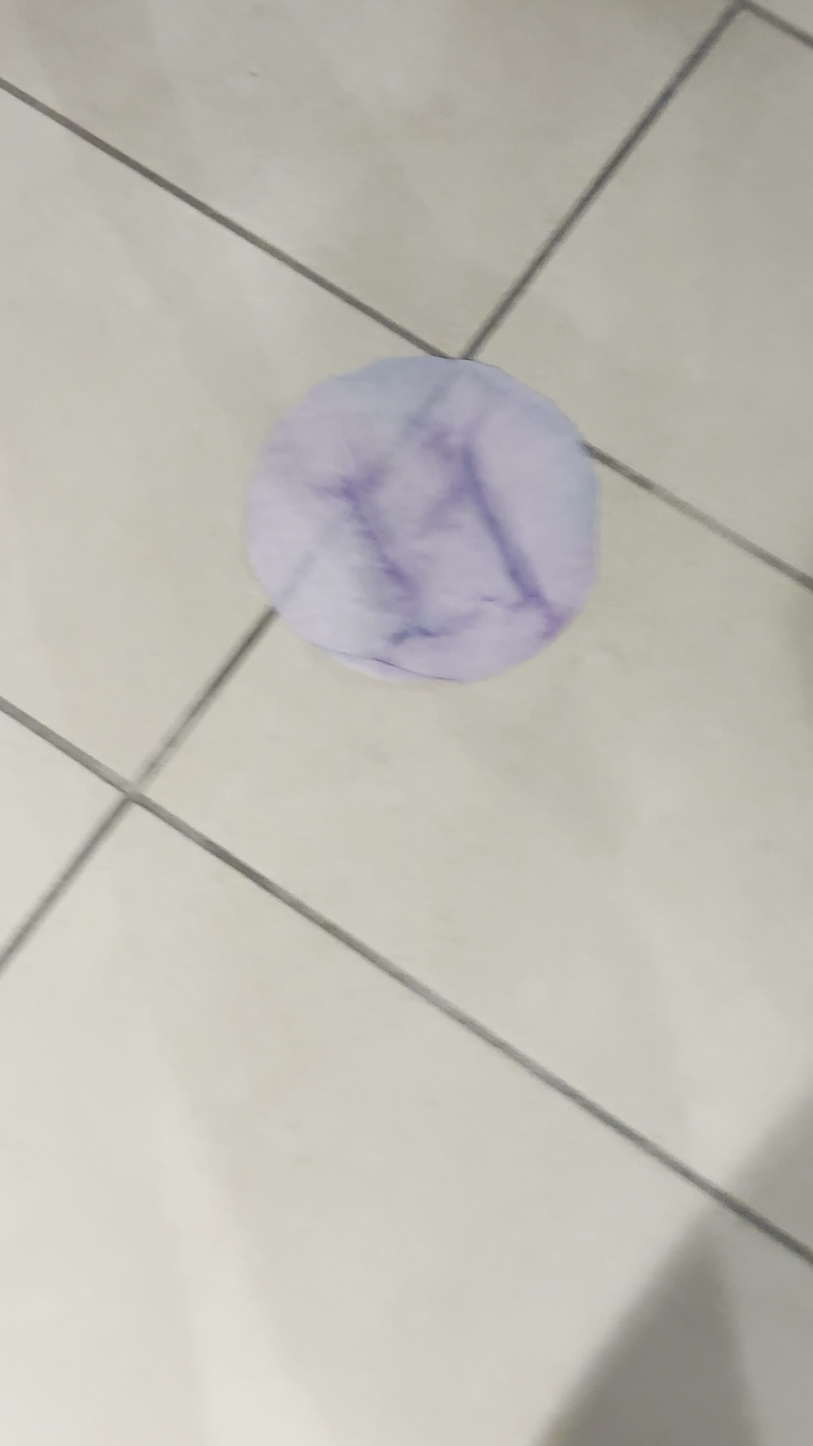Target: (244, 357, 599, 685)
